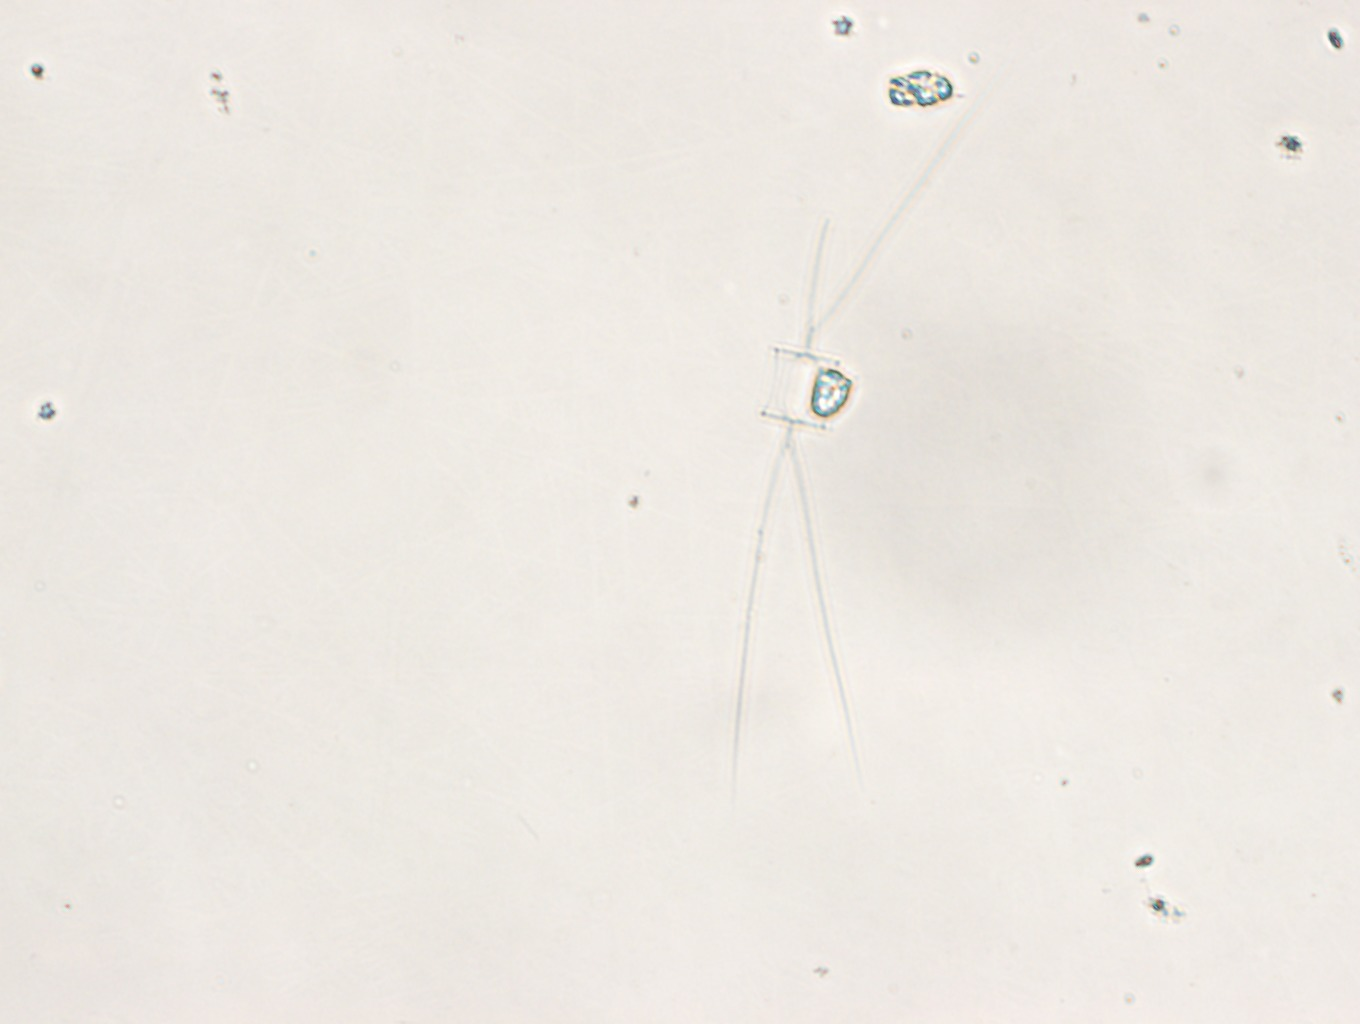chaetoceros: (734, 57, 1007, 782)
